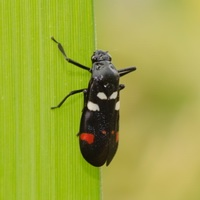insect: (51, 37, 135, 166)
